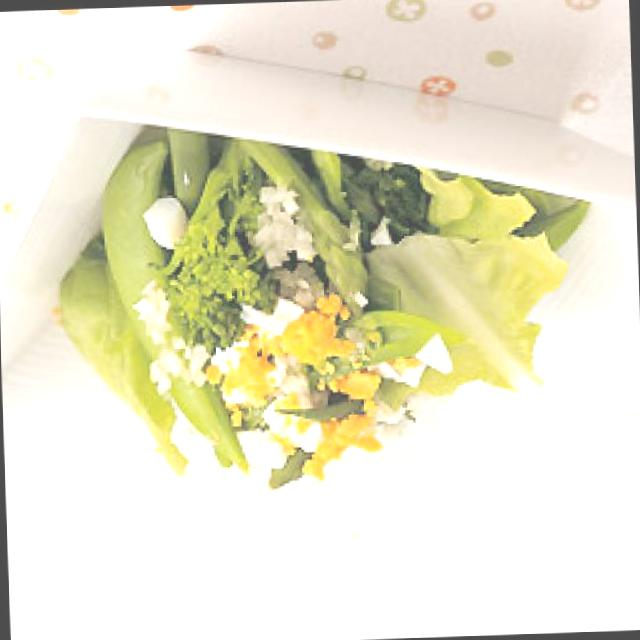Green Salad: (54, 135, 578, 491)
